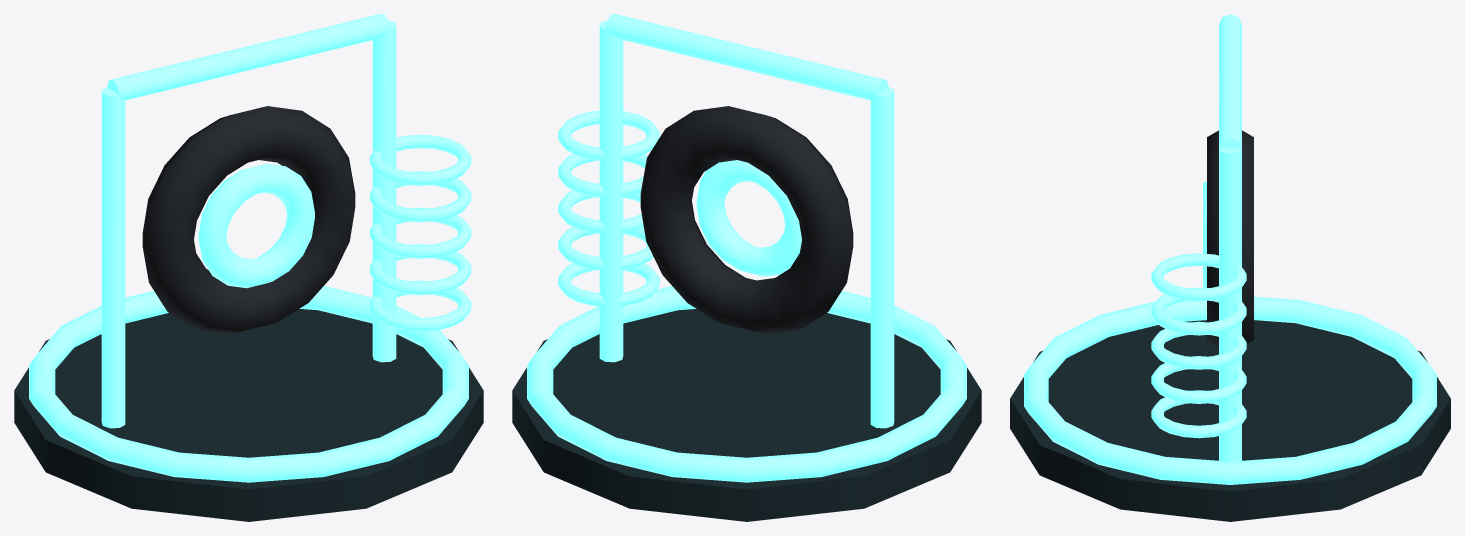
File: pickup-wheels.glb
The picture shows the model from 3 angles, left to right: view 1: azimuth 30°, elevation 25°; view 2: azimuth 150°, elevation 25°; view 3: azimuth 270°, elevation 25°; orthographic projection. The views are drawn at different scales.
Visible parts, largest first — view 1: pickup-wheels; view 2: pickup-wheels; view 3: pickup-wheels.
Boxes of the visible parts, x1,y1,x2,y2 form: pickup-wheels: [14, 14, 483, 521]; pickup-wheels: [512, 14, 981, 521]; pickup-wheels: [1010, 14, 1450, 521].
Bounding box in the file's own units: 2.1 × 1.86 × 2.1.
